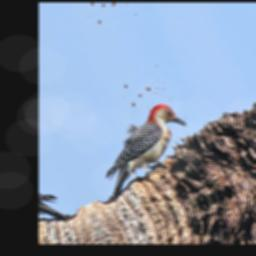Woodpecker: (82, 96, 204, 205)
